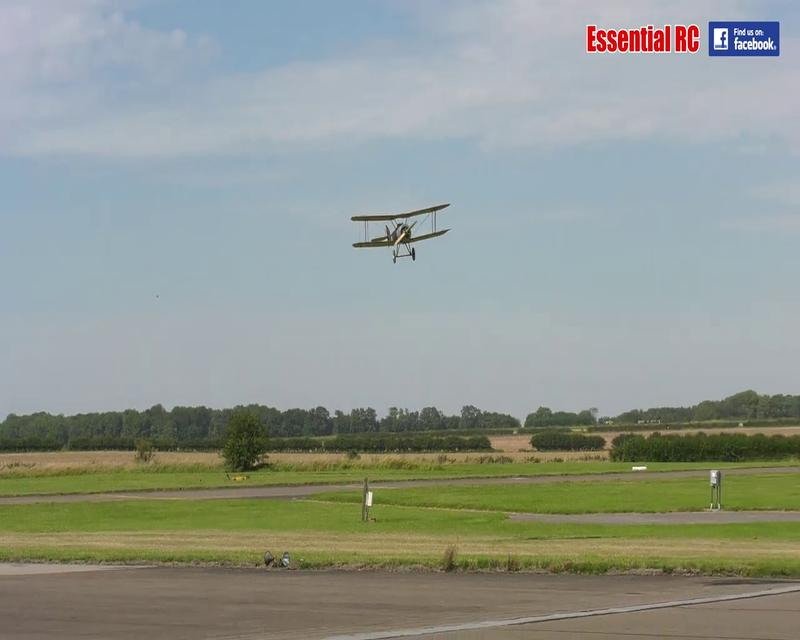UAV: (349, 201, 451, 263), (585, 22, 700, 53)
